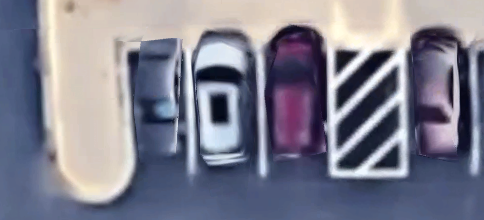Occupied: (401, 48, 476, 177), (261, 48, 333, 177), (190, 49, 263, 174), (124, 45, 191, 175)
